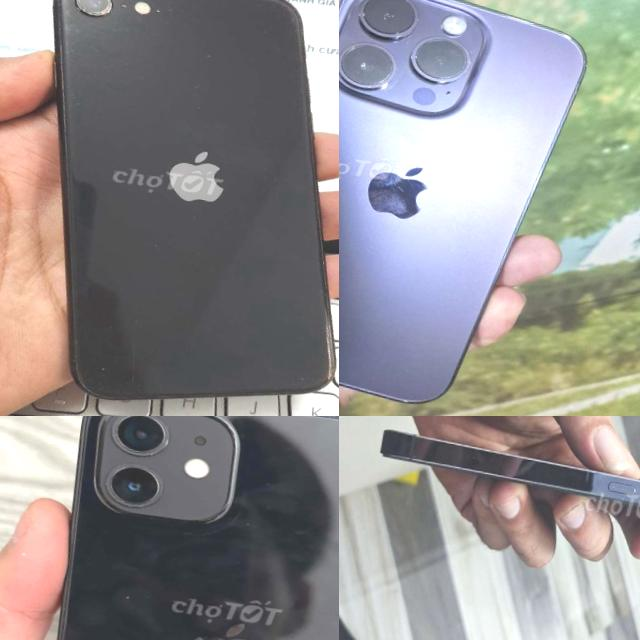scratch: (0, 0, 339, 416), (133, 0, 309, 39), (300, 290, 339, 399), (71, 0, 125, 24)
